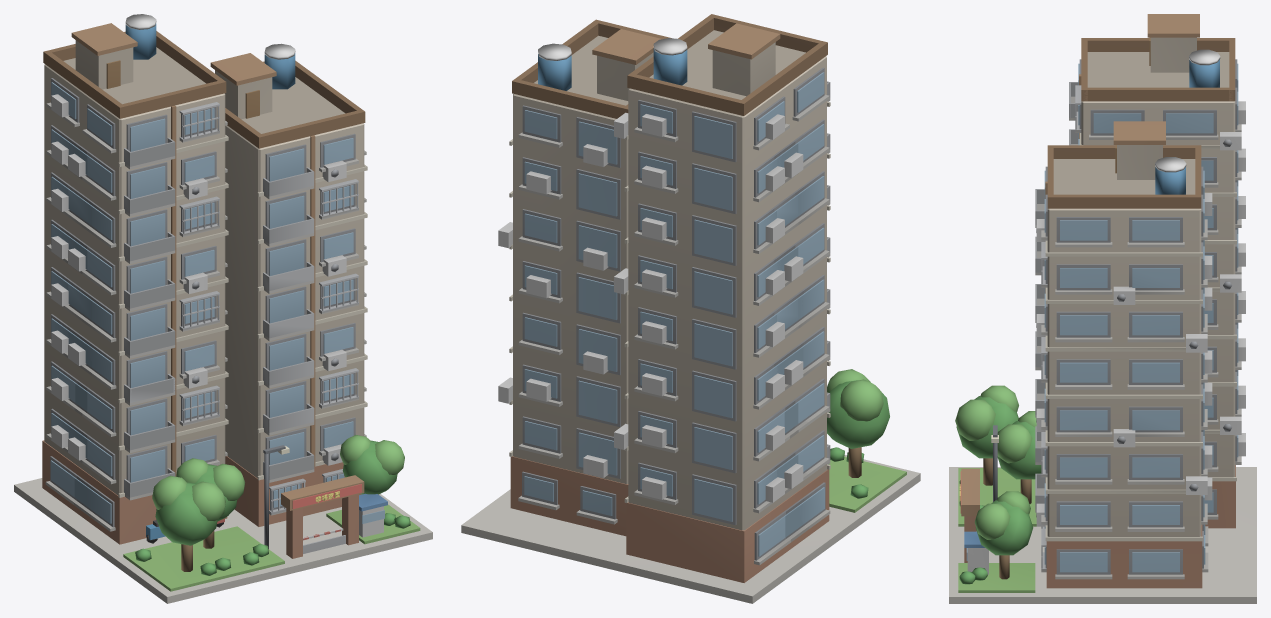
The model's file is apartment.glb.
3 renders of one model, left to right at view 1: azimuth 30°, elevation 25°; view 2: azimuth 150°, elevation 25°; view 3: azimuth 270°, elevation 25°, orthographic. The views are drawn at different scales.
Visible parts, largest first — view 1: apartment; view 2: apartment; view 3: apartment.
Part boxes in pixels (x1=…): apartment: x1=14, y1=14, x2=432, y2=603; apartment: x1=461, y1=14, x2=920, y2=603; apartment: x1=949, y1=14, x2=1256, y2=603.
Bounding box in the file's own units: 2 × 3.4 × 2.
